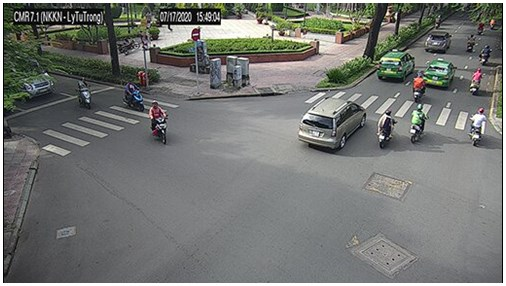xe_hoi: (299, 97, 368, 153), (20, 60, 56, 99), (376, 50, 415, 81), (422, 60, 456, 87), (425, 30, 451, 53)
xe_may: (149, 100, 169, 145), (377, 109, 397, 150), (410, 103, 429, 145), (123, 79, 145, 113), (468, 106, 486, 147), (75, 77, 93, 109), (469, 67, 482, 96), (118, 37, 139, 54), (479, 45, 492, 65), (466, 33, 477, 54), (432, 14, 442, 29), (477, 21, 485, 36), (489, 16, 497, 30)
